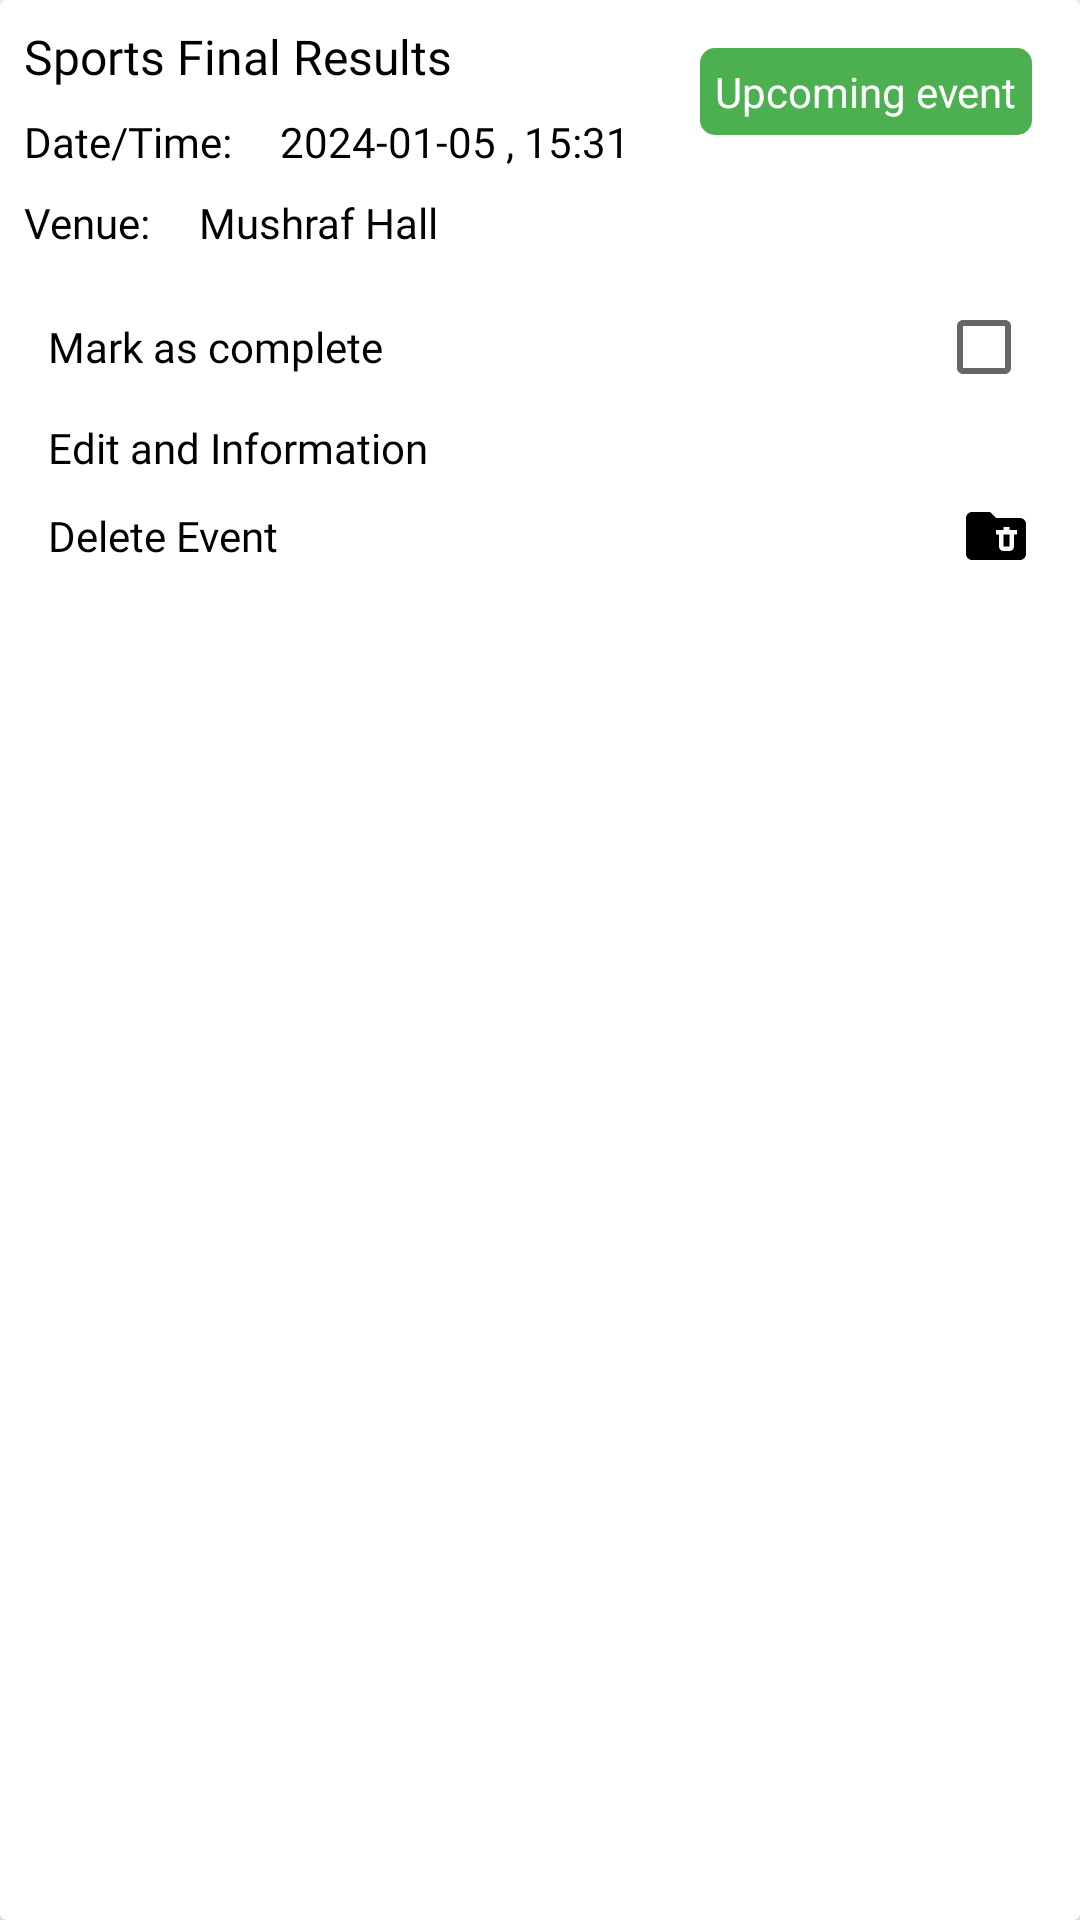

Screen size 1080×1920. Icon name, then its center in pixels as (x,y):
folder delete: (996,536)
